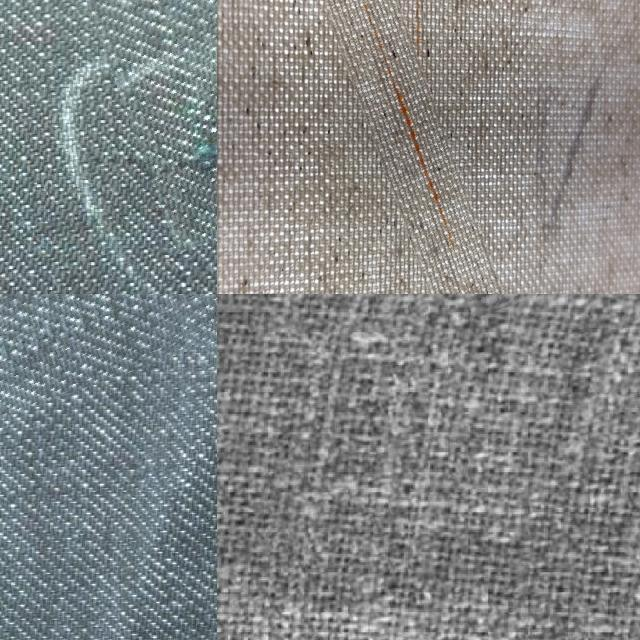Thread_other: (60, 0, 217, 247), (349, 0, 480, 294), (0, 294, 217, 468)
seam: (454, 294, 532, 314)
